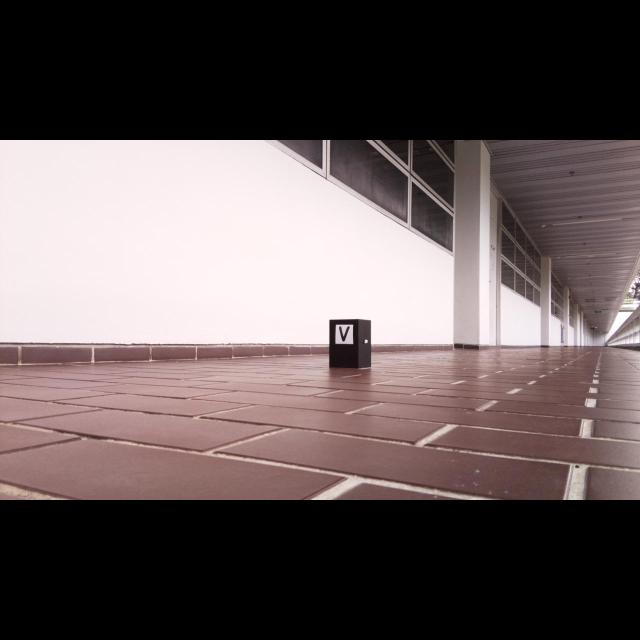V: (339, 326, 350, 342)
